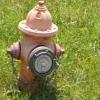a fire hydrant: (7, 0, 68, 94)
